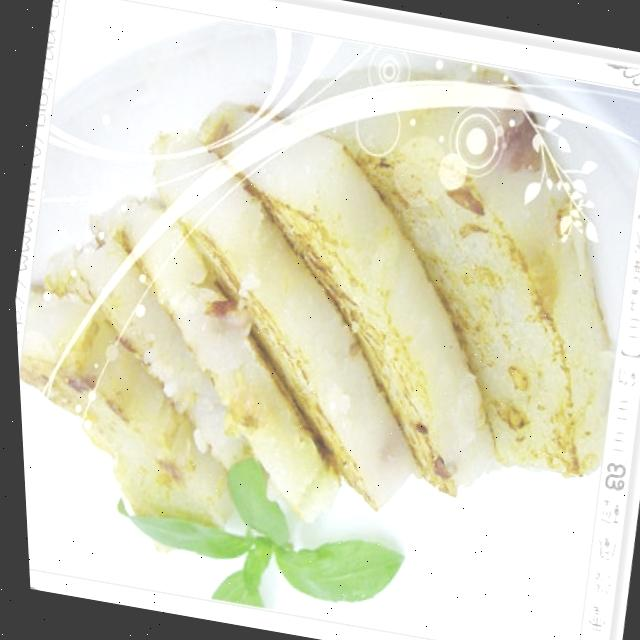蛋糕甜品: (6, 44, 640, 621)
